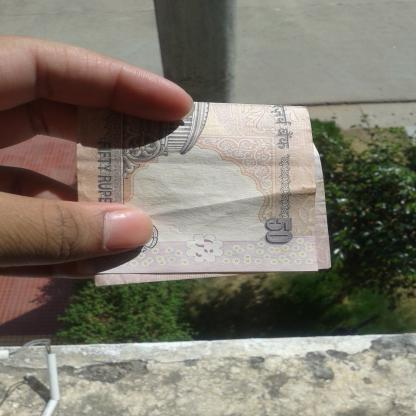Old50Back: (79, 100, 334, 288)
